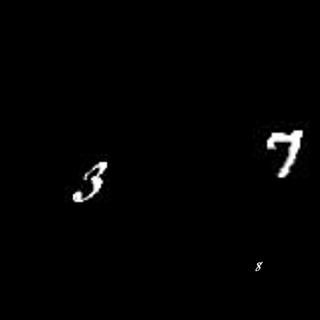eight: (253, 256, 265, 273)
seven: (262, 125, 305, 179)
three: (72, 160, 111, 204)
